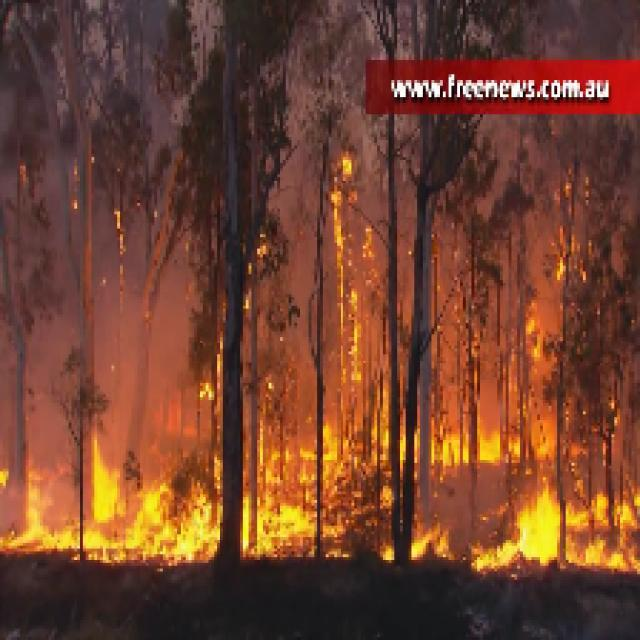Fire: (3, 434, 223, 560), (323, 148, 386, 466), (471, 480, 640, 574), (237, 443, 317, 560), (437, 411, 552, 463)
Smoke: (2, 2, 192, 428)
